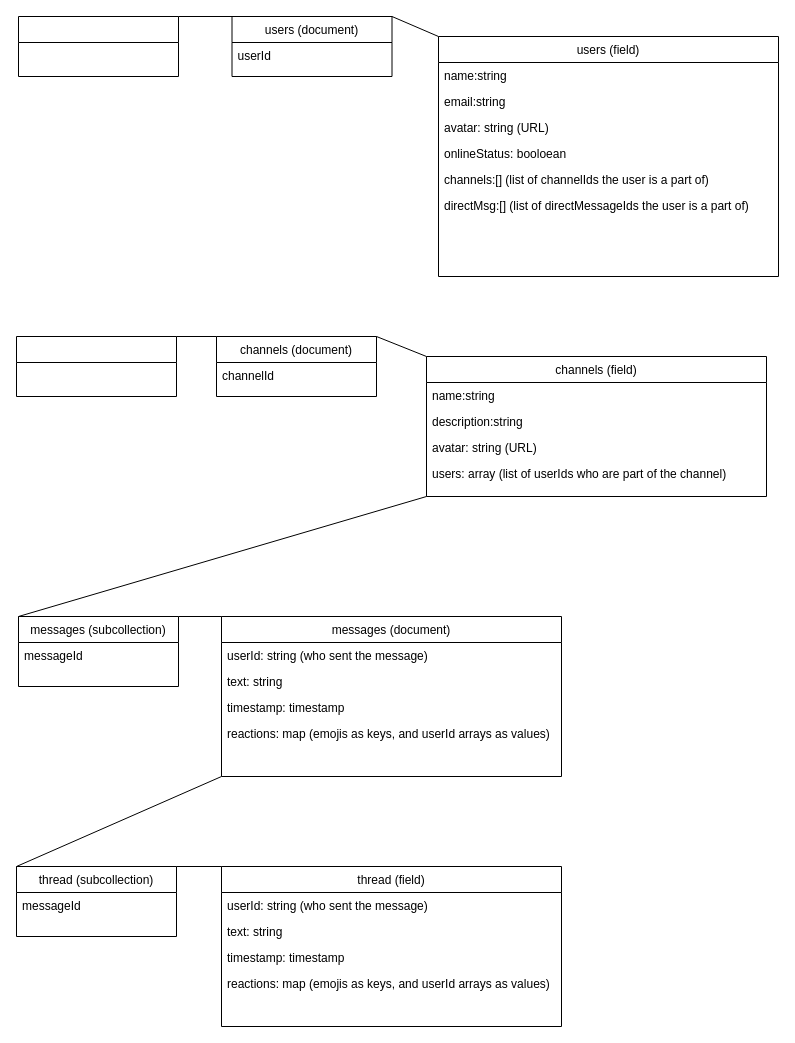
The diagram is 795 pixels wide and 1043 high, and some of its shapes have lost their labels. Here are the shapes that lost their labels. From the top down, the centre of each, then its label:
At pixel 98 46: "users (Collection)".
At pixel 96 366: "channels (Collection)".
